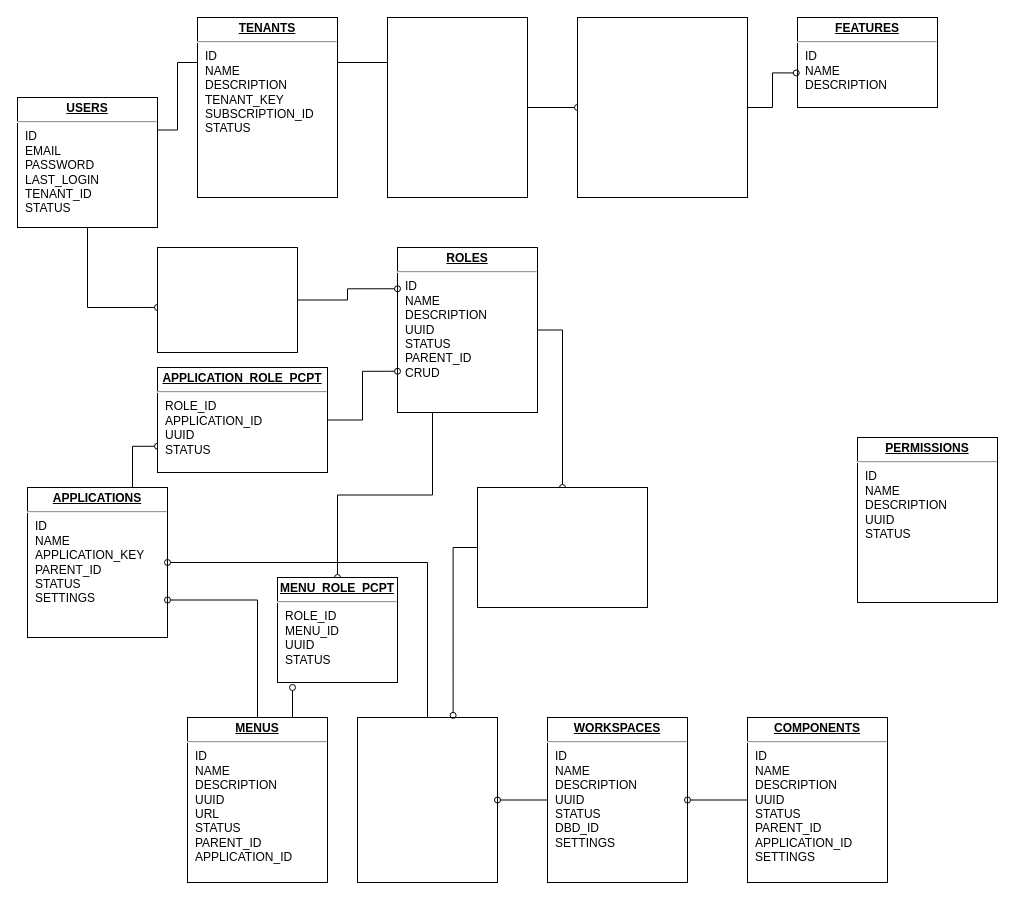
This 1015x900 diagram has some shape labels left out. The shapes that lost their labels are listed below. From the top down, each one's centre as x and y in pixels, then its label:
[457,107]: SUBSCRIPTIONS ID NAME TYPE (MLY/YLY/LIFE) PRICE START_DATE END_DATE STATUS
[662,107]: SUBSCRIPTION_FEATURES SUBSCRIPTION_ID FEATURE_ID STATUS
[227,299]: USER_ROLE_PCPT ROLE_ID USER_ID UUID STATUS
[562,547]: DASHBOARD_ROLE_PCPT ROLE_ID DASHBOARD_ID UUID STATUS
[427,799]: DASHBOARDS ID NAME DESCRIPTION UUID STATUS PARENT_ID APPLICATION_ID SETTINGS
